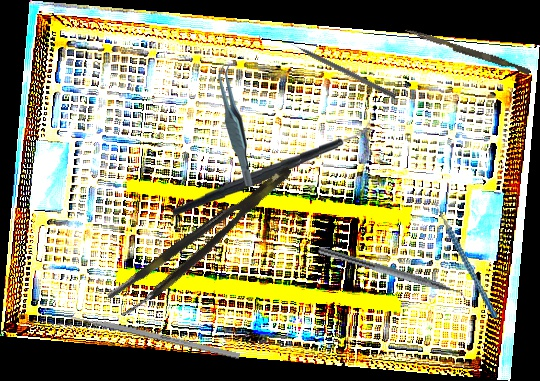Chopper: (168, 114, 375, 219), (424, 191, 498, 327), (314, 246, 476, 308)
Pusher: (53, 309, 241, 360), (281, 35, 398, 100), (403, 28, 532, 75)
Tissue Forceps: (106, 163, 304, 320), (218, 65, 253, 186)
